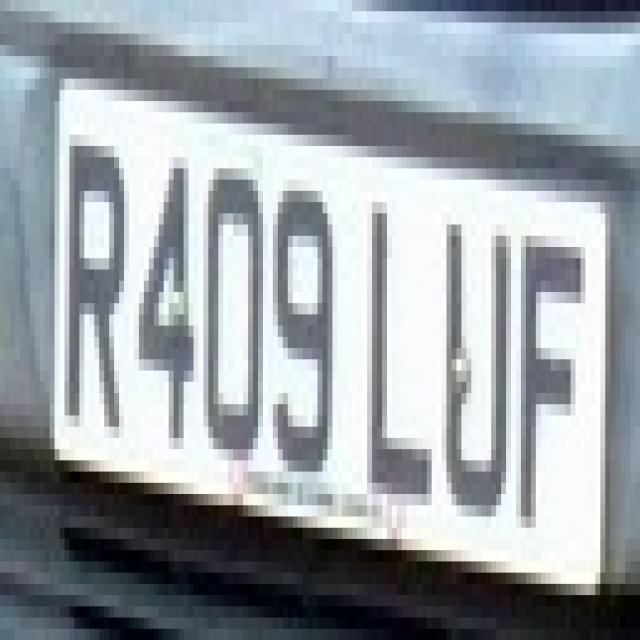licenseplate: (49, 34, 615, 608)
